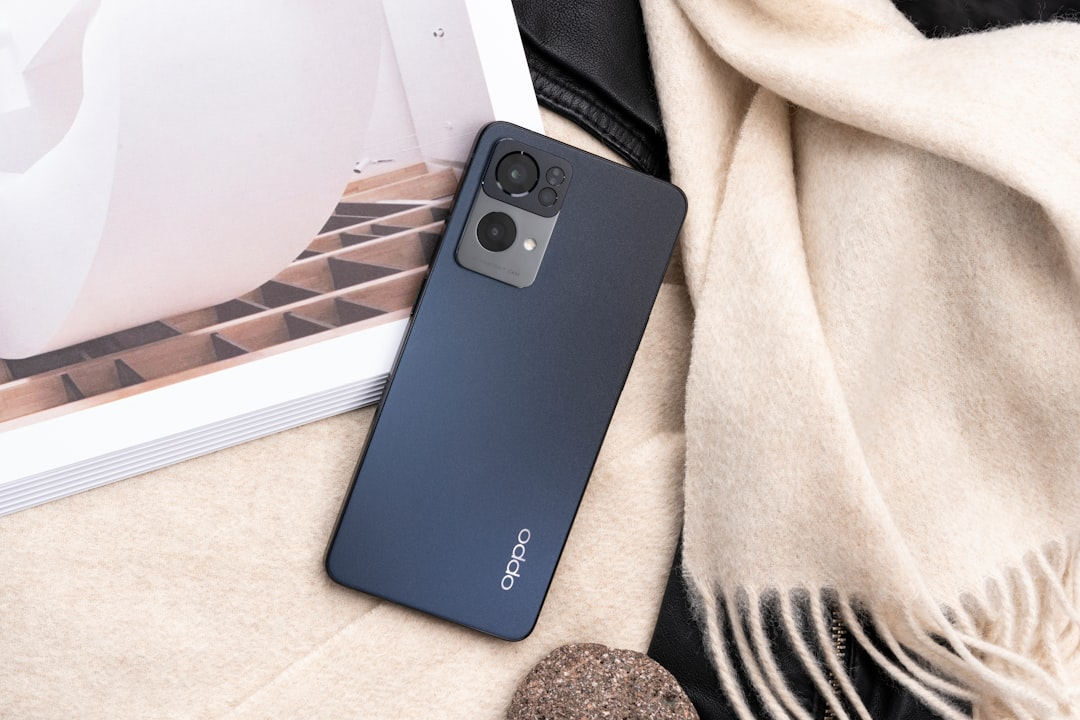phone: (322, 122, 690, 643)
